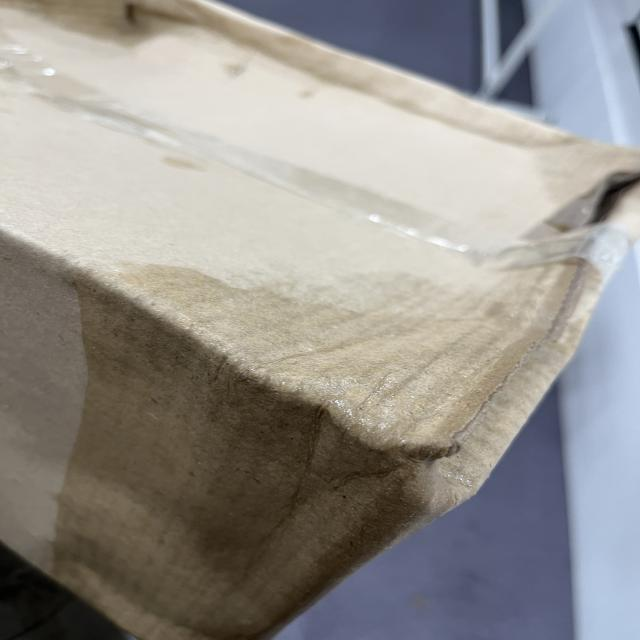wet: (54, 263, 588, 639)
